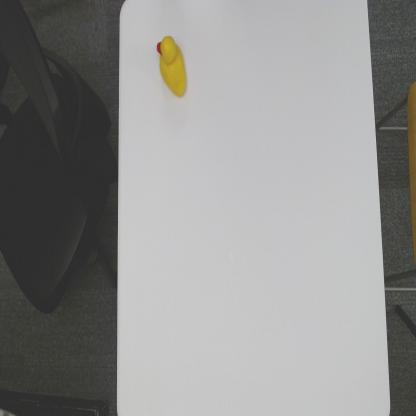Duck: (157, 34, 188, 96)
